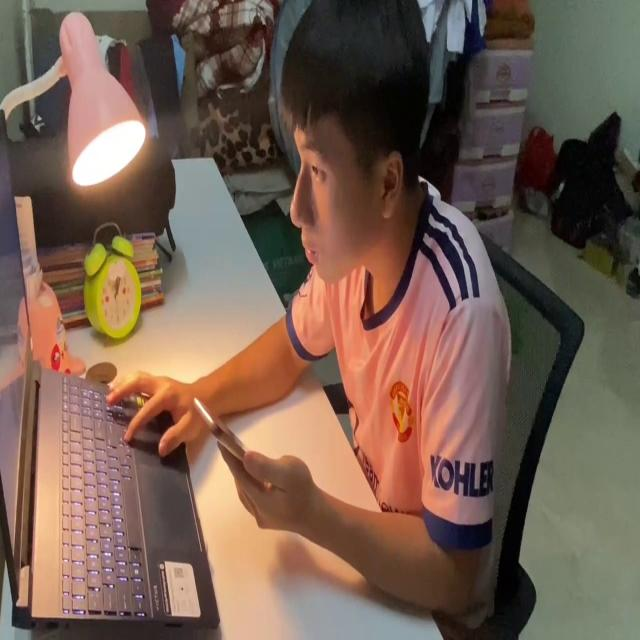laptop: (0, 105, 222, 637)
phone: (194, 393, 259, 482)
student: (105, 0, 509, 622)
